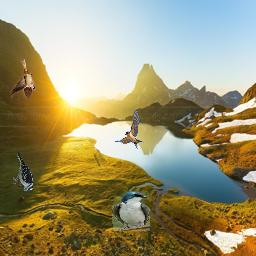Sparrow: (11, 59, 36, 99)
Swallow: (112, 191, 150, 231), (115, 109, 144, 149)
Woodpecker: (13, 152, 35, 192)
